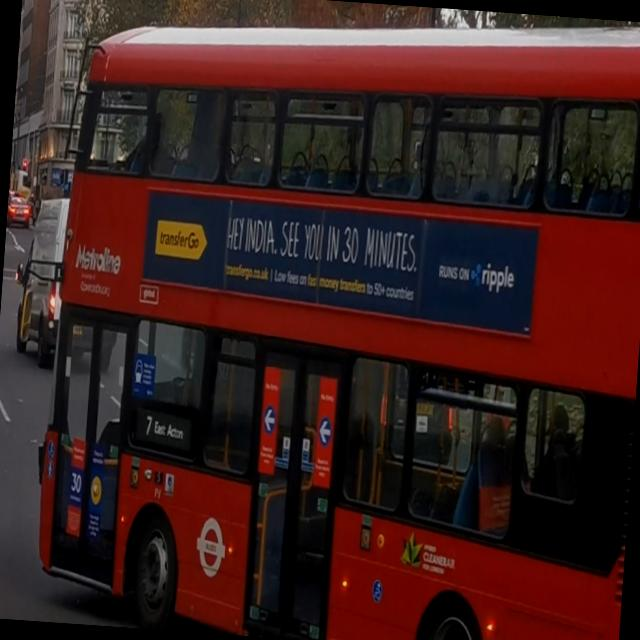Vehicle: (42, 24, 640, 640)
